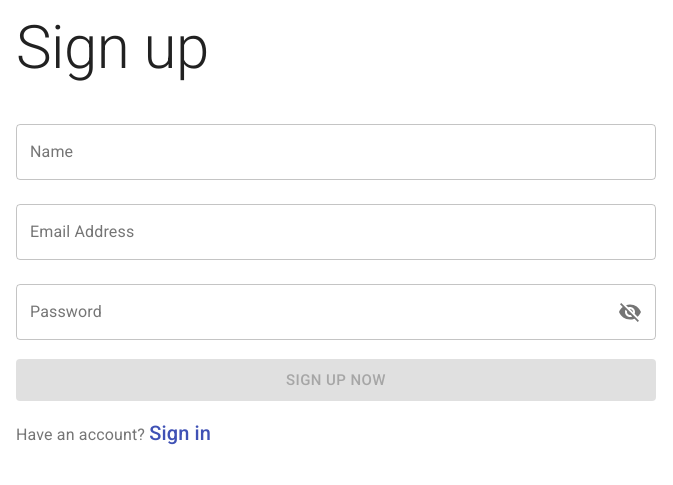
register: after entering a value with numbers in the name field then the button should be disabled
Type "test1" into the field next to "Name".
click(336, 152); type("test1")  # box [16,124,656,180]
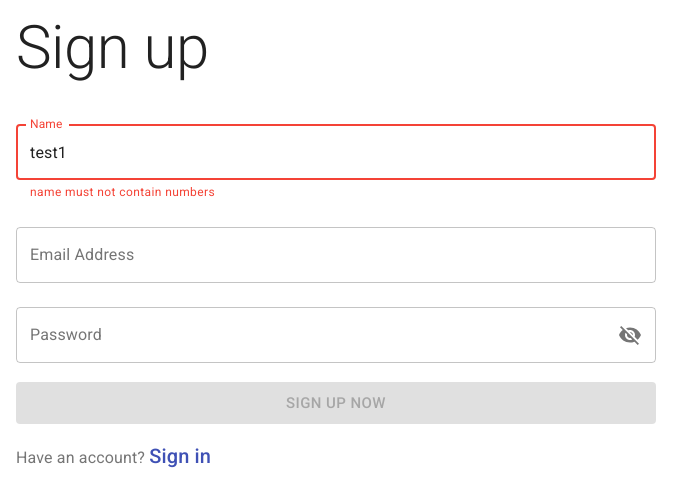
Check: the button "Sign up now" is disabled, box [16,382,656,424]
Check: the text "name must not contain numbers" is shown, box [30,185,215,199]
